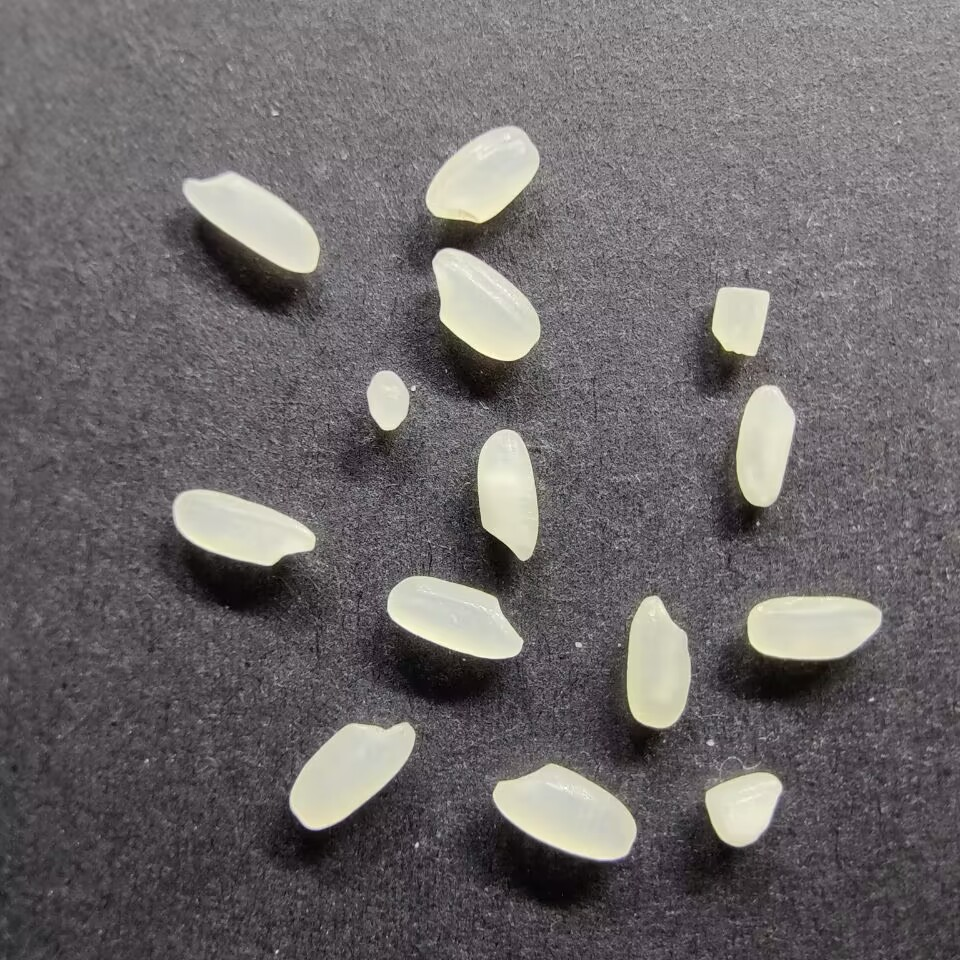broken: (704, 769, 784, 850), (709, 285, 772, 356), (365, 366, 412, 432)
rice: (286, 718, 417, 833), (178, 170, 321, 274), (492, 762, 638, 862), (429, 247, 542, 363), (424, 123, 542, 226), (384, 574, 525, 660), (170, 487, 316, 567), (744, 593, 883, 661), (624, 594, 693, 729), (475, 427, 540, 562), (735, 381, 796, 508)
